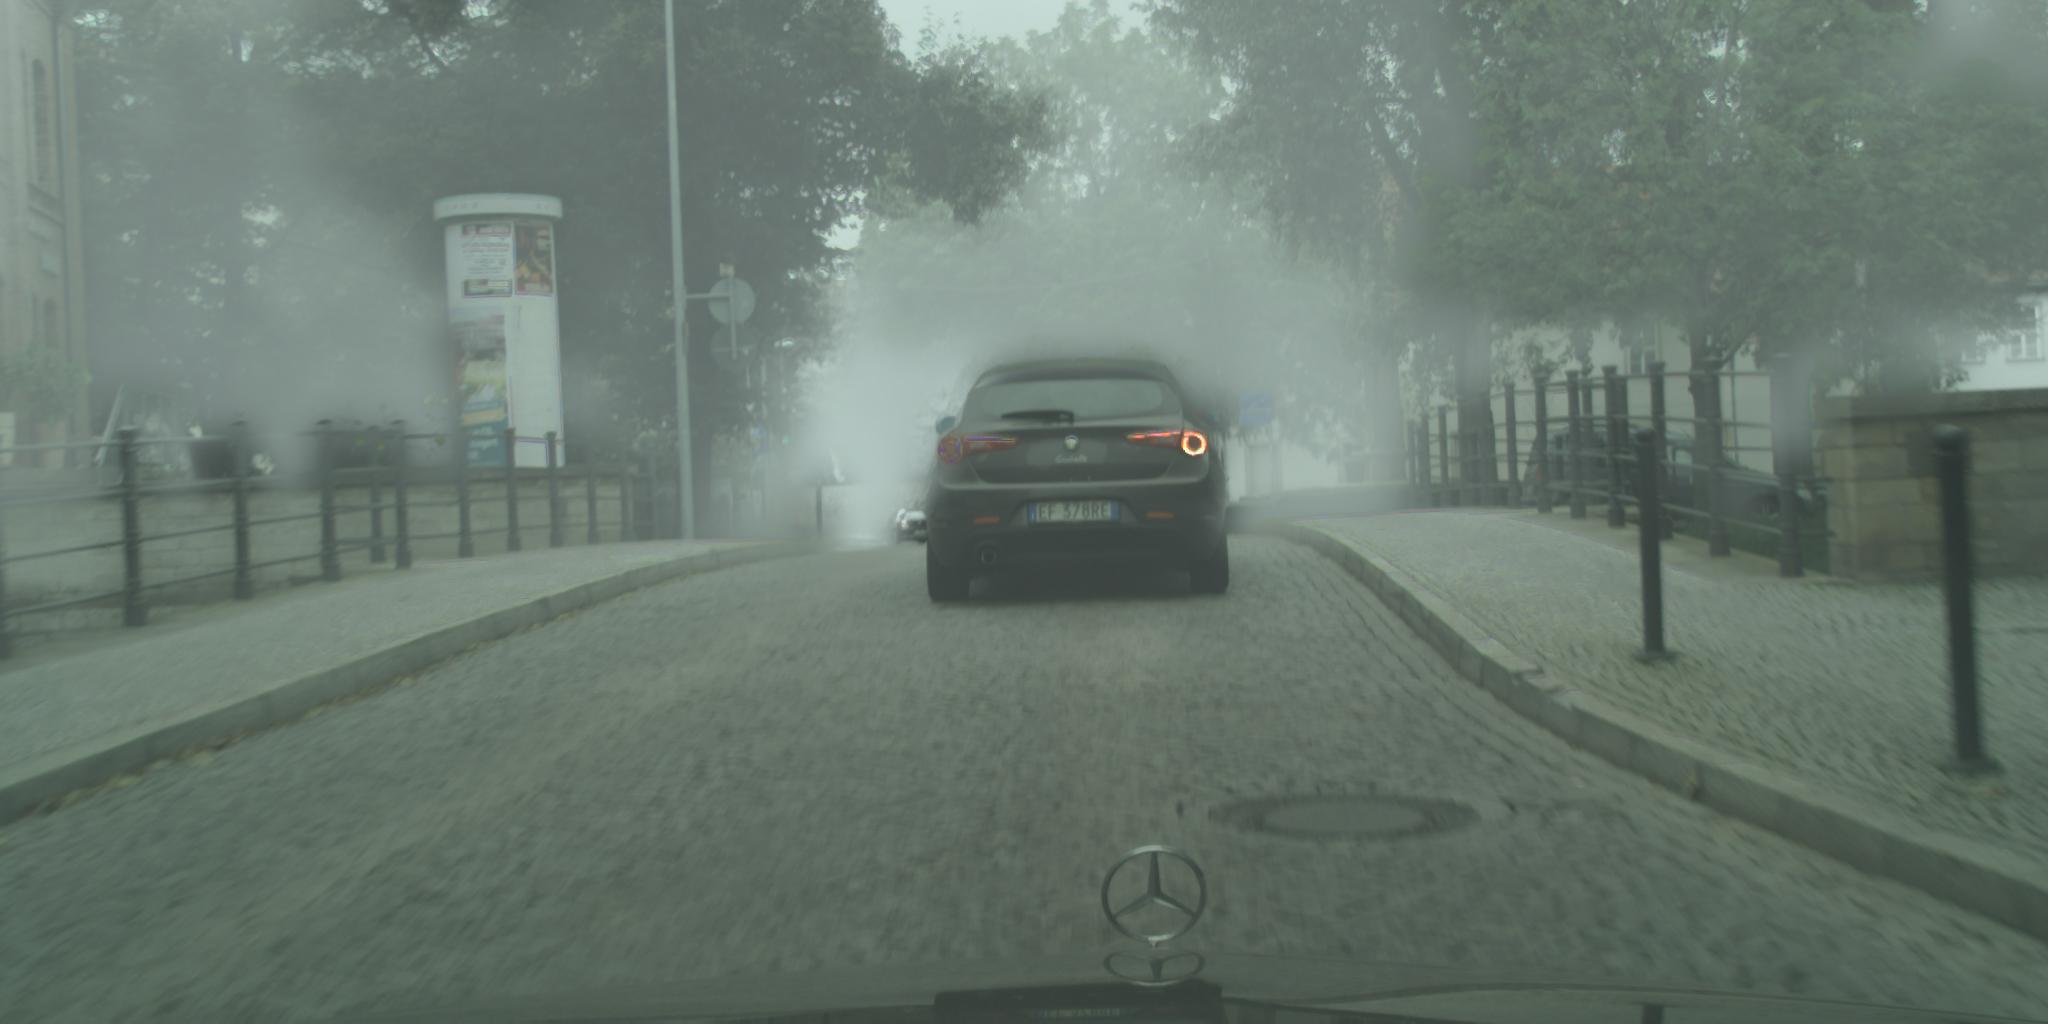car: (923, 359, 1232, 605), (882, 509, 930, 547)
